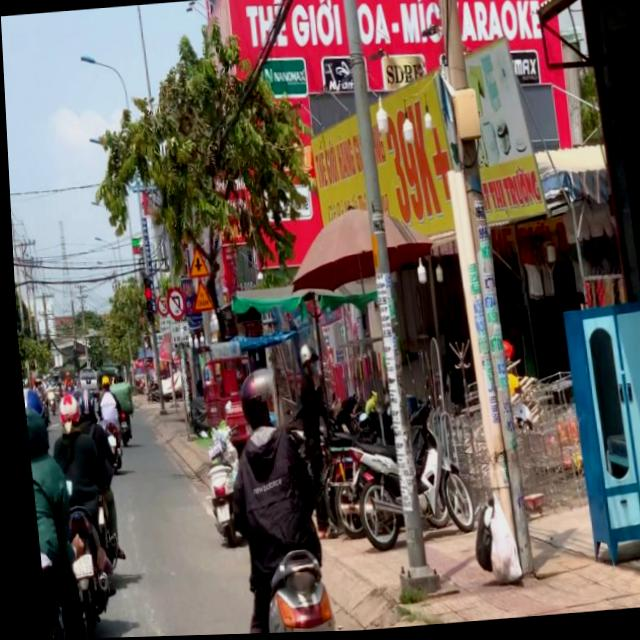Di cham: (187, 277, 211, 318)
Giao nhau voi duong khong uu tien: (183, 245, 208, 281)
